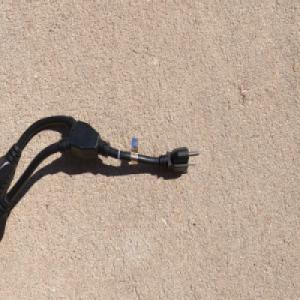Wire: (0, 114, 201, 239)
